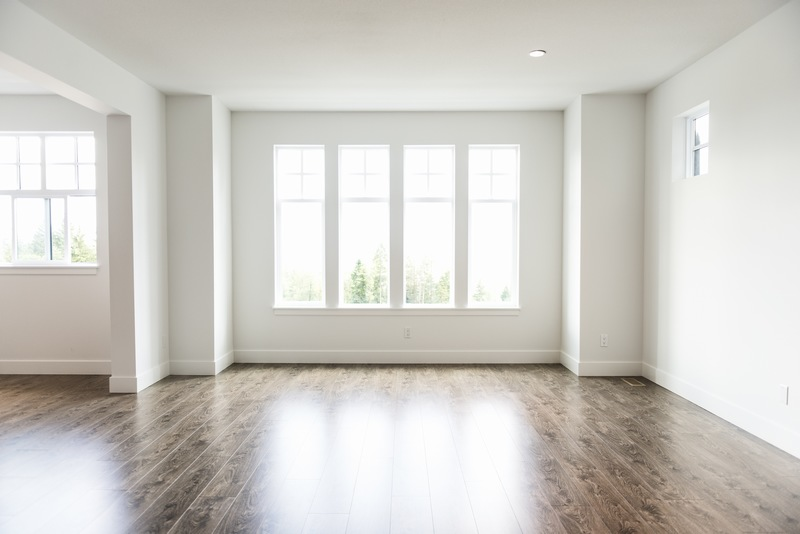wall: (233, 112, 564, 362), (1, 1, 170, 476), (645, 1, 800, 460), (580, 93, 644, 378), (169, 96, 214, 378), (213, 92, 235, 376), (562, 96, 581, 376)
window: (273, 145, 519, 312), (1, 132, 98, 272), (669, 101, 711, 181)
